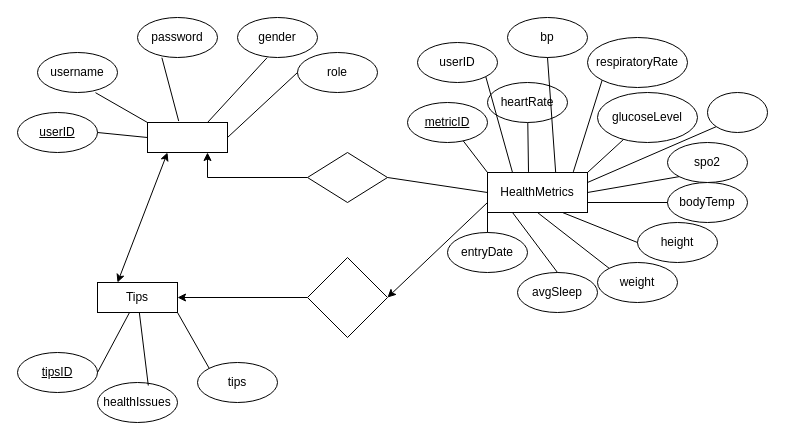
Image size: 785x440. Some labels were removed from this diagram. Each missing label, with the box of its shape:
age: (706, 92, 768, 132)
input: (306, 152, 388, 202)
prediction: (306, 256, 388, 338)
User: (146, 122, 228, 152)
